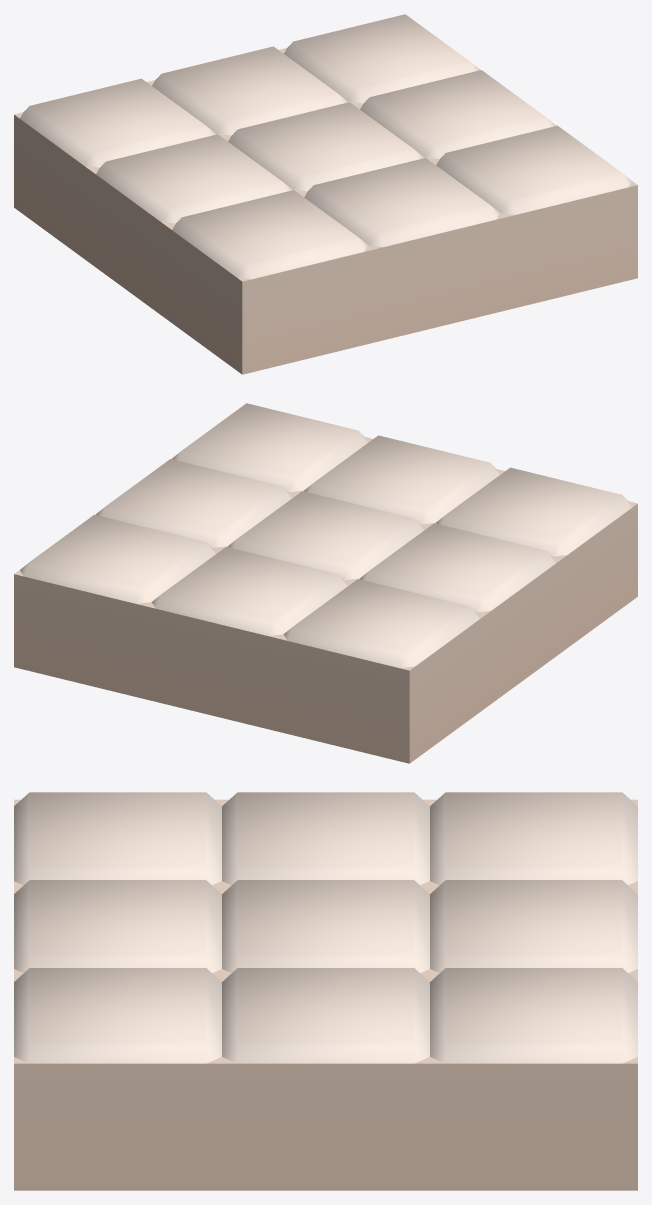
Rendered from floor-tiled.glb.
The picture shows the model from 3 angles, top to bottom: view 1: azimuth 30°, elevation 25°; view 2: azimuth 150°, elevation 25°; view 3: azimuth 270°, elevation 25°; orthographic projection. The views are drawn at different scales.
Parts seen in each view (by area): view 1: floor_tiled; view 2: floor_tiled; view 3: floor_tiled.
Part boxes in pixels (left/top/right/bottom): floor_tiled: left=14, top=14, right=637, bottom=374; floor_tiled: left=14, top=403, right=637, bottom=763; floor_tiled: left=14, top=792, right=637, bottom=1190.
Size of the model in its own units: 2 by 0.5 by 2.
1 material, 1 textured.
